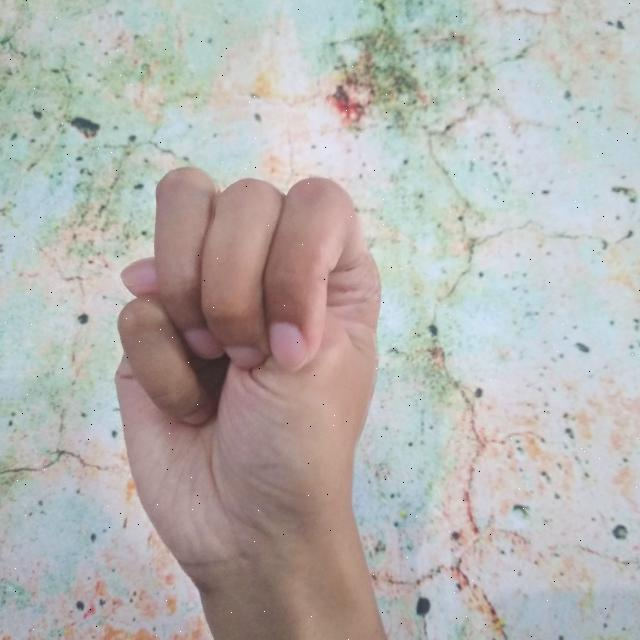M: (104, 159, 397, 640)
